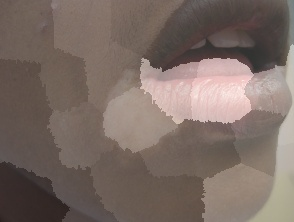vitiligo: (90, 56, 151, 125)
